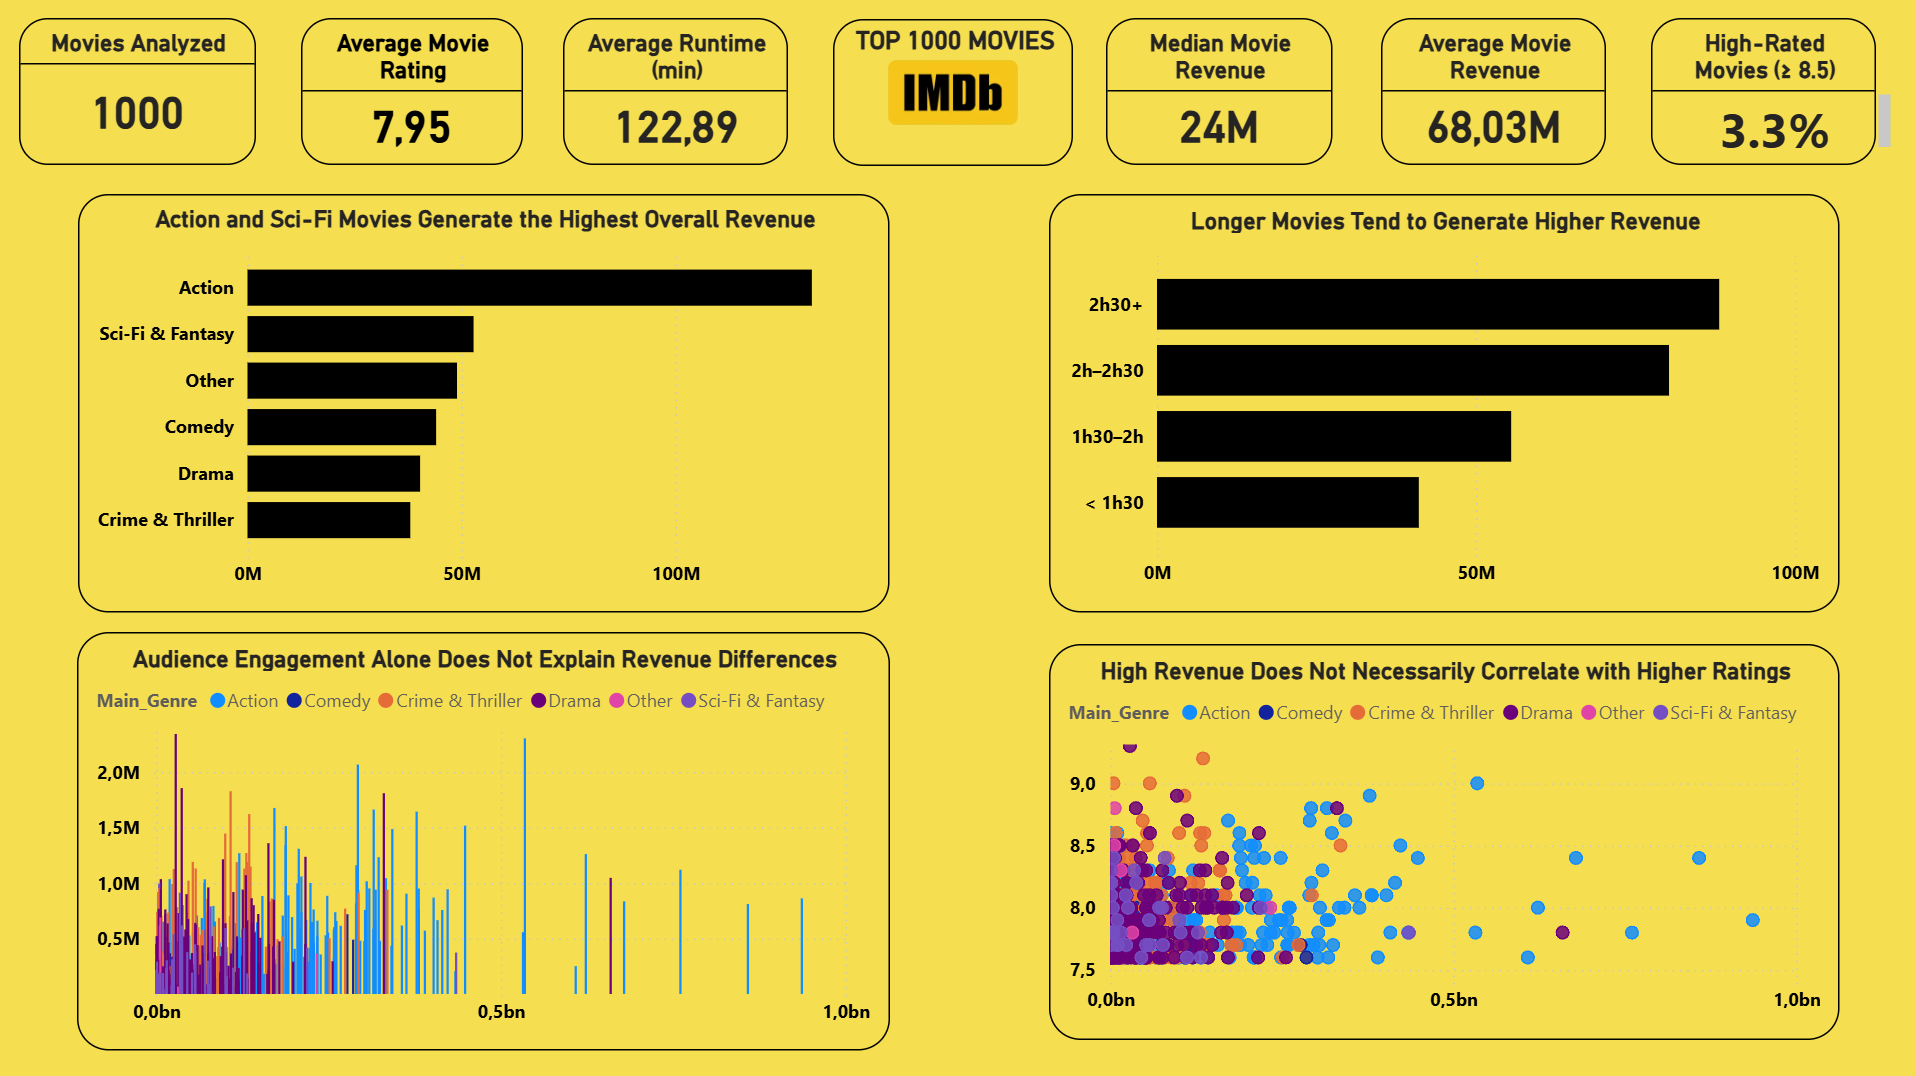

What the dashboard file says about the page in this screenshot:
{"tool":"powerbi","page":{"name":"Revenue & Correlations","canvas":[1280,720],"ordinal":1},"visuals":[{"type":"clusteredBarChart","title":"Longer Movies Tend to Generate Higher Revenue","fields":{"Y":["Avg(IMDB.Gross)"],"Category":["IMDB.Runtime_Avg"]},"box":[700.7,130.7,527.1,278.6],"z":0},{"type":"clusteredBarChart","title":"Action and Sci-Fi Movies Generate the Highest Overall Revenue","fields":{"Category":["IMDB.Main_Genre"],"Y":["Avg(IMDB.Gross)"]},"box":[53.6,130.7,541.4,278.6],"z":1000},{"type":"columnChart","title":"Audience Engagement Alone Does Not Explain Revenue Differences","fields":{"Category":["IMDB.Gross"],"Series":["IMDB.Main_Genre"],"Y":["Sum(IMDB.No_of_Votes)"]},"box":[52.9,422.9,542.1,279.3],"z":2000},{"type":"scatterChart","title":"High Revenue Does Not Necessarily Correlate with Higher Ratings","fields":{"Series":["IMDB.Main_Genre"],"X":["Sum(IMDB.Gross)"],"Y":["Avg(IMDB.IMDB_Rating)"],"Category":["IMDB.No_of_Votes"]},"box":[700.7,430.7,527.1,263.6],"z":3000},{"type":"card","title":"Movies Analyzed","fields":{"Values":["CountNonNull(IMDB.Movies)"]},"box":[14.2,13.6,157.5,97.8],"z":4000},{"type":"image","title":"TOP 1000","box":[556.3,13.5,159.5,97.8],"z":5000,"group":"g1"},{"type":"card","title":"Average Runtime (min)","fields":{"Values":["Avg(IMDB.Runtime)"]},"box":[376.5,13.6,150.3,97.8],"z":5000},{"type":"card","title":"High-Rated Movies (≥ 8.5)","fields":{"Values":["CountNonNull(IMDB.IMDB_Rating)"]},"box":[1102.1,13.6,150,97.9],"z":5000,"group":"g2"},{"type":"card","title":"Average Movie Rating","fields":{"Values":["Avg(IMDB.IMDB_Rating)"]},"box":[201.9,13.6,147.7,97.8],"z":6000},{"type":"card","title":"Median Movie Revenue","fields":{"Values":["Median(IMDB.Gross)"]},"box":[738.6,13.6,150.7,97.9],"z":7000},{"type":"group","id":"g1","title":"Group 1","box":[556.3,12.4,159.5,98.9],"z":8000},{"type":"group","id":"g2","title":"Group 2","box":[1102.1,13.6,164.2,97.9],"z":9000},{"type":"textbox","box":[560.3,12.4,155,37.1],"z":9002,"group":"g1"},{"type":"card","title":"Average Movie Revenue","fields":{"Values":["Avg(IMDB.Gross)"]},"box":[922,13.6,150.3,97.8],"z":10000},{"type":"textbox","box":[1142.7,59.6,123.6,48.6],"z":12000,"group":"g2"}]}

Visuals, with their boxes in screenshot pixels (x1, y1, x2, y2), scaled from the page's 1280x720 canvas onto the 1916x1076 screenshot:
"Longer Movies Tend to Generate Higher Revenue" clusteredBarChart: bbox=[1049, 195, 1838, 612]
"Action and Sci-Fi Movies Generate the Highest Overall Revenue" clusteredBarChart: bbox=[80, 195, 891, 612]
"Audience Engagement Alone Does Not Explain Revenue Differences" columnChart: bbox=[79, 632, 891, 1049]
"High Revenue Does Not Necessarily Correlate with Higher Ratings" scatterChart: bbox=[1049, 644, 1838, 1038]
"Movies Analyzed" card: bbox=[21, 20, 257, 166]
"TOP 1000" image: bbox=[833, 20, 1071, 166]
"Average Runtime (min)" card: bbox=[564, 20, 789, 166]
"High-Rated Movies (≥ 8.5)" card: bbox=[1650, 20, 1874, 167]
"Average Movie Rating" card: bbox=[302, 20, 523, 166]
"Median Movie Revenue" card: bbox=[1106, 20, 1331, 167]
"Group 1" group: bbox=[833, 19, 1071, 166]
"Group 2" group: bbox=[1650, 20, 1895, 167]
textbox: bbox=[839, 19, 1071, 74]
"Average Movie Revenue" card: bbox=[1380, 20, 1605, 166]
textbox: bbox=[1710, 89, 1895, 162]
